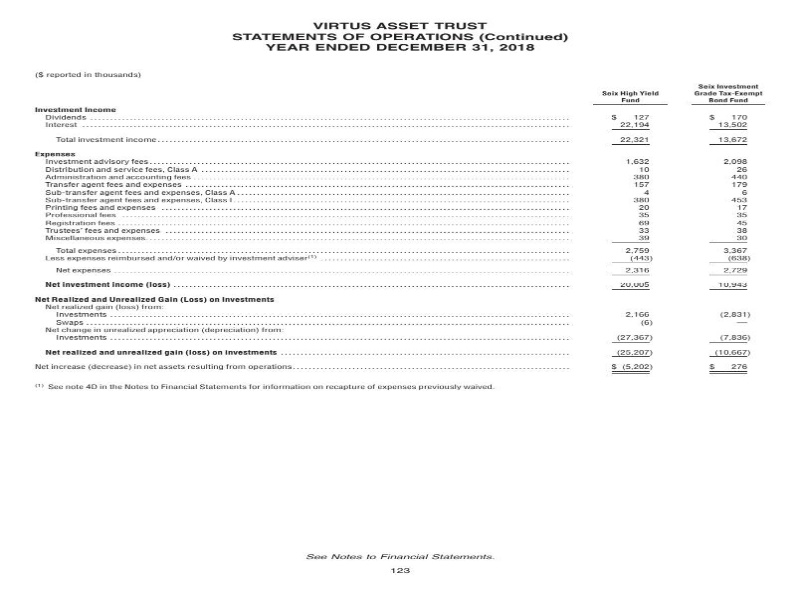table: (25, 61, 778, 404)
